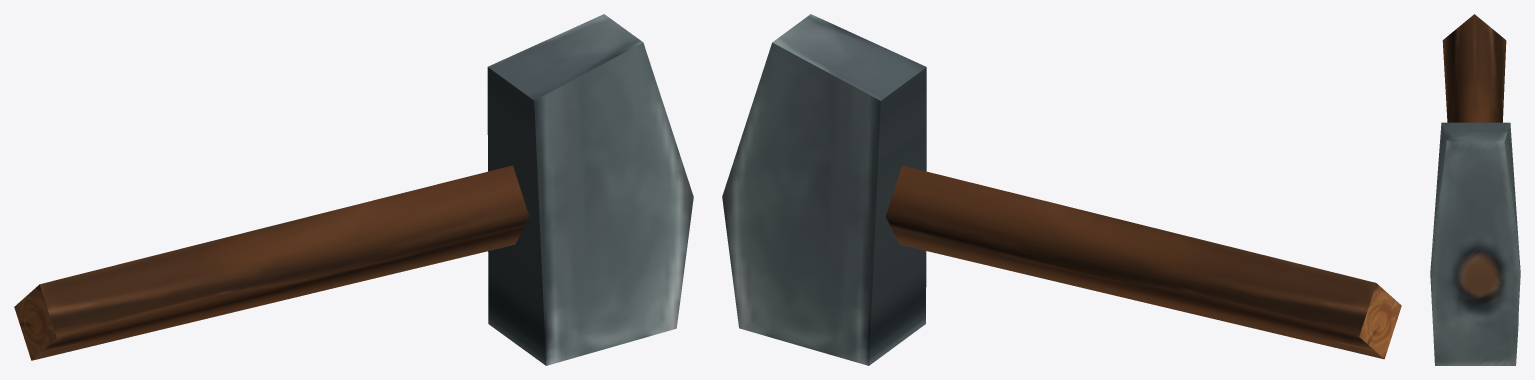
The model's file is ELF_weapon_hammer.FBX.
3 views of the same model, side by side, from view 1: azimuth 30°, elevation 25°; view 2: azimuth 150°, elevation 25°; view 3: azimuth 270°, elevation 25° (orthographic). The views are drawn at different scales.
Parts seen in each view (by area): view 1: ELF_weapon_hammer; view 2: ELF_weapon_hammer; view 3: ELF_weapon_hammer.
Part boxes in pixels (box(x1,y1,x2,y2)): ELF_weapon_hammer: box(14, 14, 693, 365); ELF_weapon_hammer: box(722, 14, 1401, 365); ELF_weapon_hammer: box(1430, 14, 1520, 365).
Bounding box in the file's own units: 28.64 × 12.59 × 4.76.
